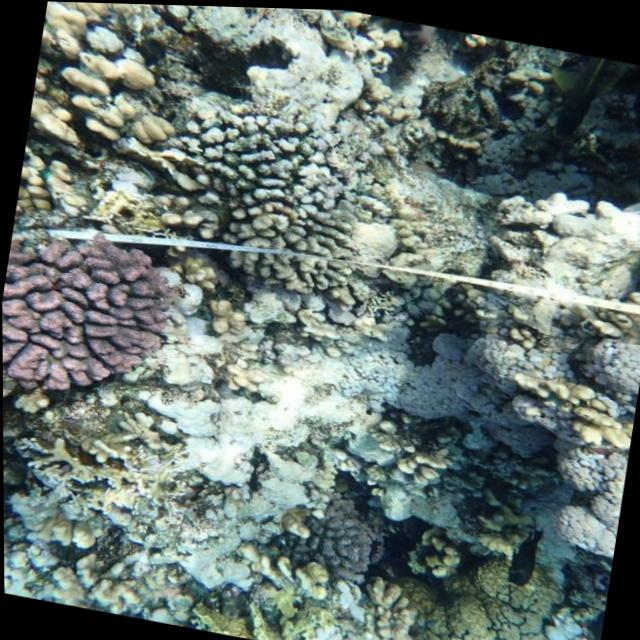Bleached Coral: (120, 270, 584, 544), (182, 18, 399, 220), (3, 492, 83, 605), (525, 594, 605, 640)
Healthy Coral: (1, 222, 156, 409)
